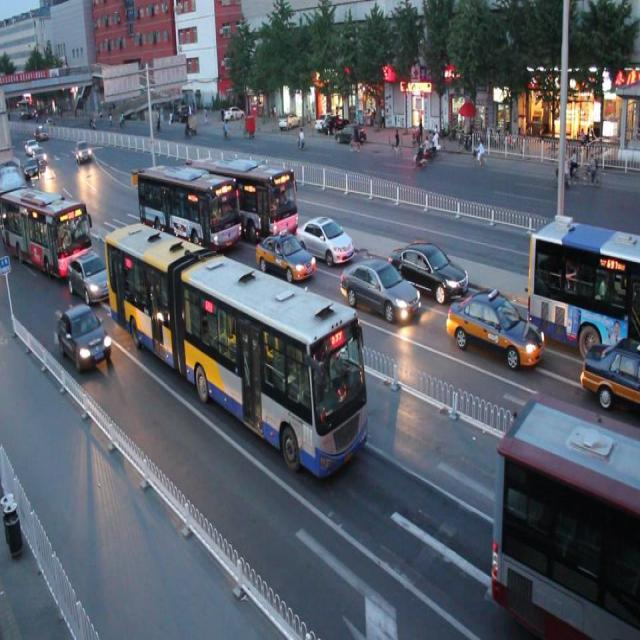car: (444, 294, 541, 371), (339, 257, 420, 325), (387, 240, 467, 304), (580, 333, 640, 405), (58, 300, 111, 373), (256, 231, 315, 283), (296, 212, 354, 263), (68, 245, 110, 302)
van: (105, 222, 368, 475), (493, 398, 640, 640), (527, 219, 640, 351), (138, 163, 240, 255), (202, 152, 298, 234), (1, 184, 89, 272)
